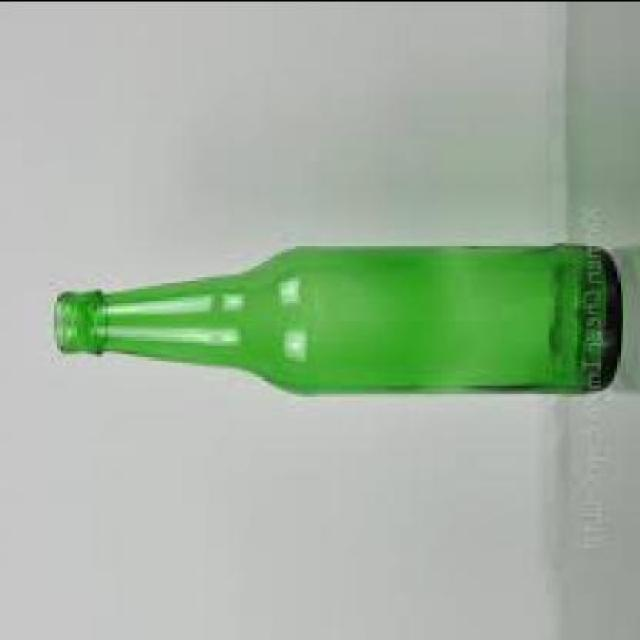GLASS: (51, 242, 620, 389)
